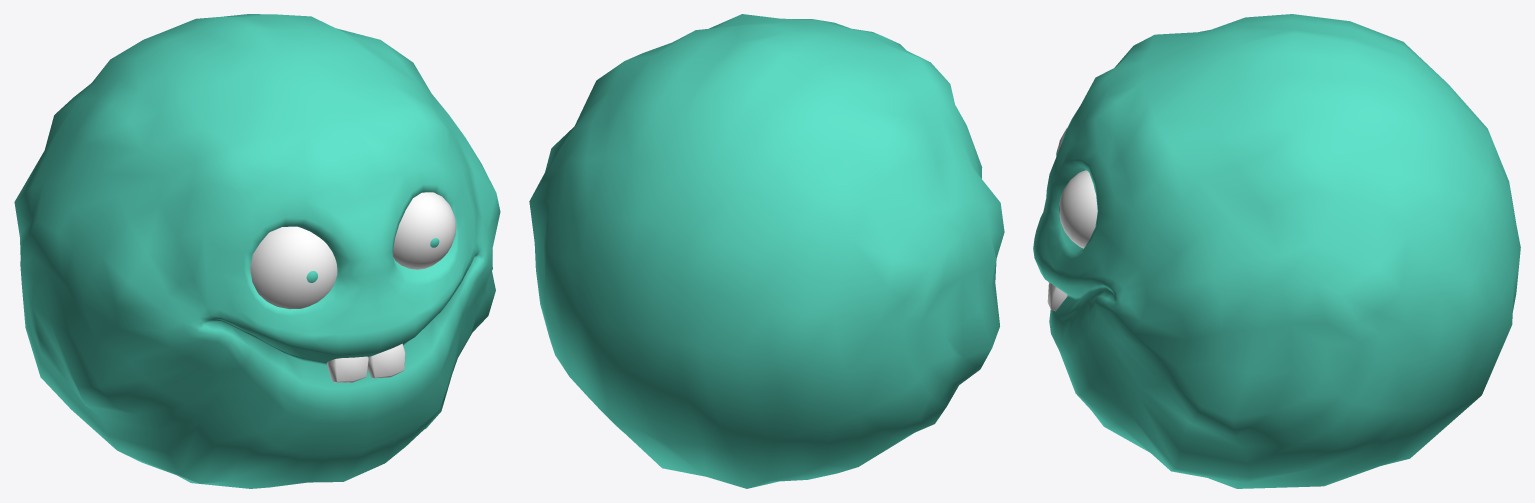
Rendered from gerpice_obj.obj.
3 views of the same model, side by side, from view 1: azimuth 30°, elevation 25°; view 2: azimuth 150°, elevation 25°; view 3: azimuth 270°, elevation 25° (orthographic). The views are drawn at different scales.
Visible parts, largest first — view 1: gerpice_body, gerpice_body_yas_R, gerpice_body_yas_L, gerpice_body_zub; view 2: gerpice_body; view 3: gerpice_body, gerpice_body_yas_L.
Part boxes in pixels (bbox=[...]): gerpice_body: bbox=[14, 14, 500, 488]; gerpice_body_yas_R: bbox=[250, 226, 337, 309]; gerpice_body_yas_L: bbox=[393, 192, 456, 269]; gerpice_body_zub: bbox=[326, 343, 405, 382]; gerpice_body: bbox=[529, 14, 1004, 488]; gerpice_body: bbox=[1033, 14, 1520, 488]; gerpice_body_yas_L: bbox=[1059, 170, 1097, 248].
Size of the model in its own units: 34177 by 34994 by 35220.
